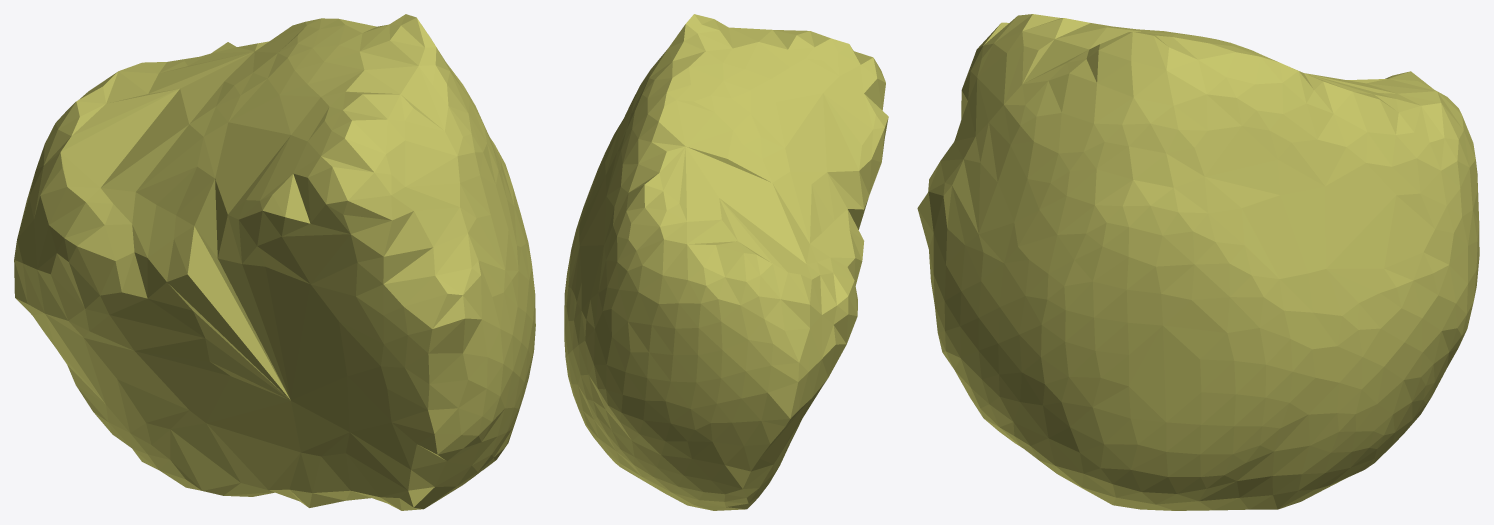
File: Model_476_RH__Ventral_cochlear_nucleus__posterior_part_(VCP).obj
3 renders of one model, left to right at view 1: azimuth 30°, elevation 25°; view 2: azimuth 150°, elevation 25°; view 3: azimuth 270°, elevation 25°, orthographic. The views are drawn at different scales.
Bounding box in the file's own units: 1.12 × 1.49 × 1.52.
